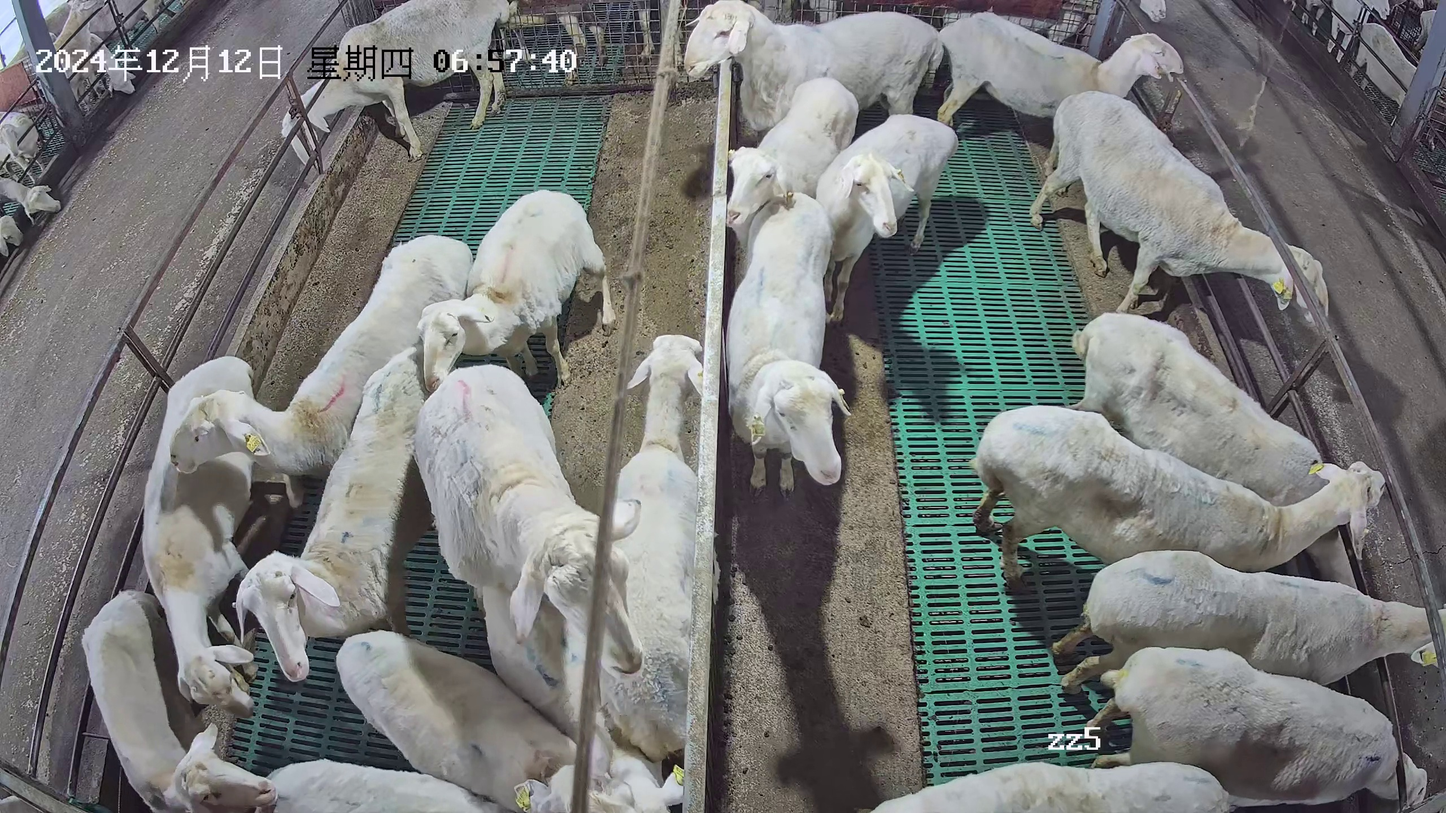Smounting: (413, 363, 686, 813)
mounted: (482, 578, 683, 812)
